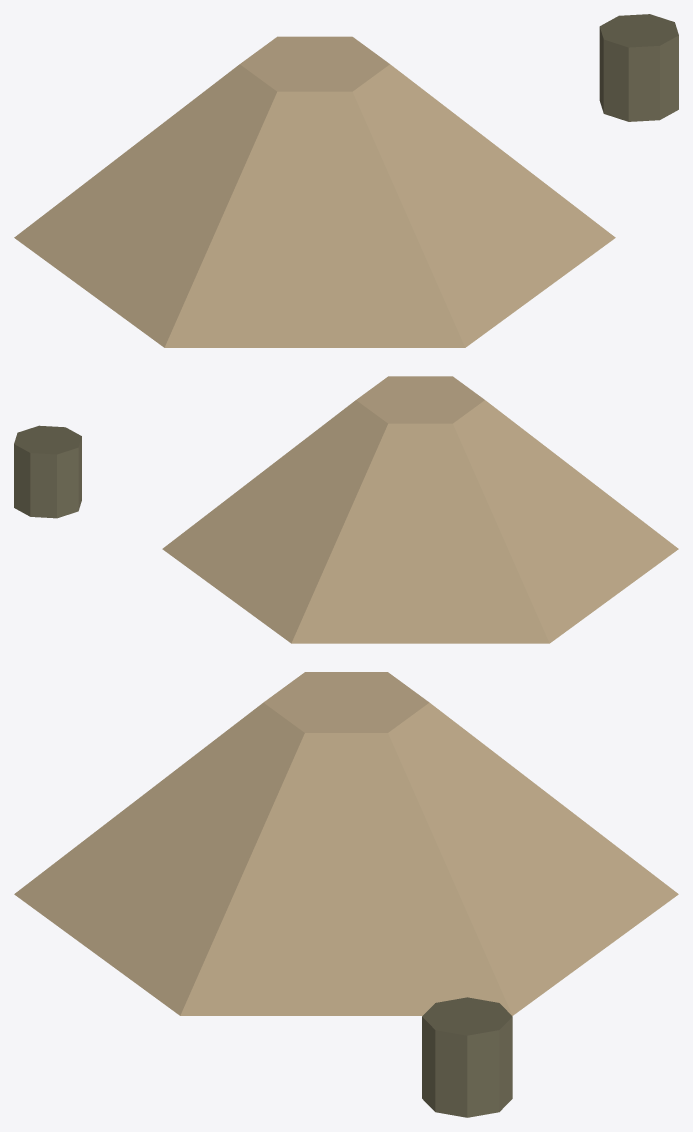
The model's file is SM_ObraHerramientas_v3_8m_LOD1.fbx.
The picture shows the model from 3 angles, top to bottom: view 1: azimuth 30°, elevation 25°; view 2: azimuth 150°, elevation 25°; view 3: azimuth 270°, elevation 25°; orthographic projection. The views are drawn at different scales.
Parts seen in each view (by area): view 1: SM_obra_curso_v16_LOD1; view 2: SM_obra_curso_v16_LOD1; view 3: SM_obra_curso_v16_LOD1.
Boxes of the visible parts, x1,y1,x2,y2 form: SM_obra_curso_v16_LOD1: [14, 14, 678, 347]; SM_obra_curso_v16_LOD1: [14, 376, 678, 643]; SM_obra_curso_v16_LOD1: [14, 672, 678, 1117].
Size of the model in its own units: 2.7 by 0.7 by 2.2.
